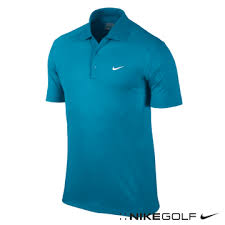C_polo shirt: (34, 17, 180, 215)
